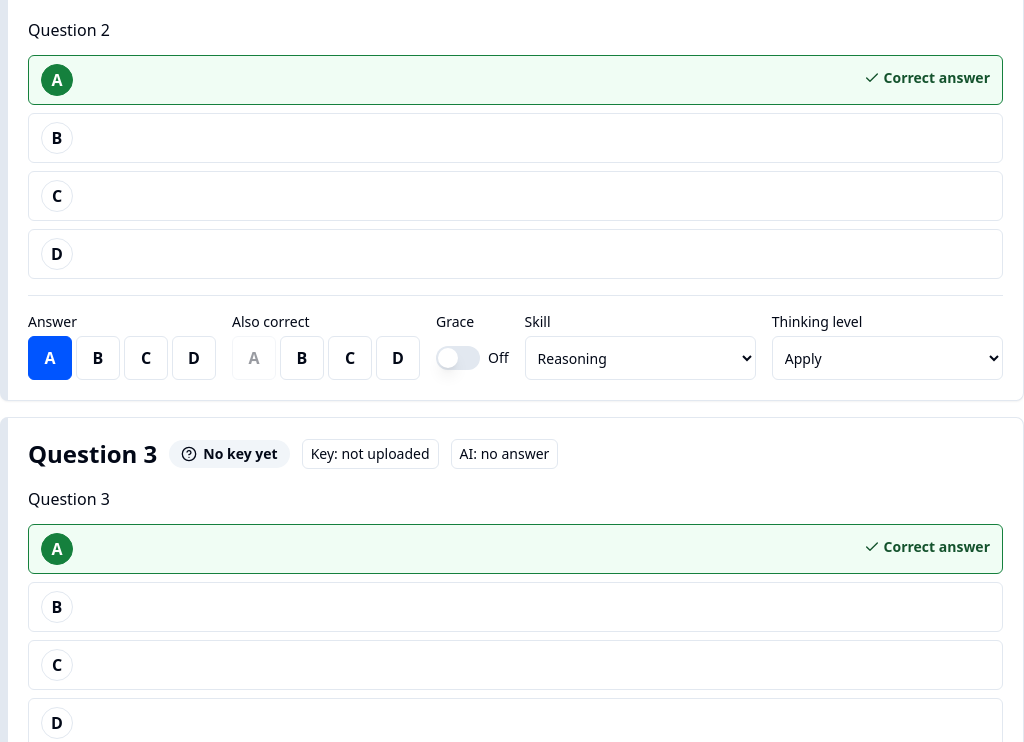
it: PaperEditor › disables the answer buttons when Grace is switched on
The width and height of the screenshot is (1024, 742).
(page scrolled)
Click the switch named "Grace for question 2".
click(458, 358)  # box [436,346,480,370]
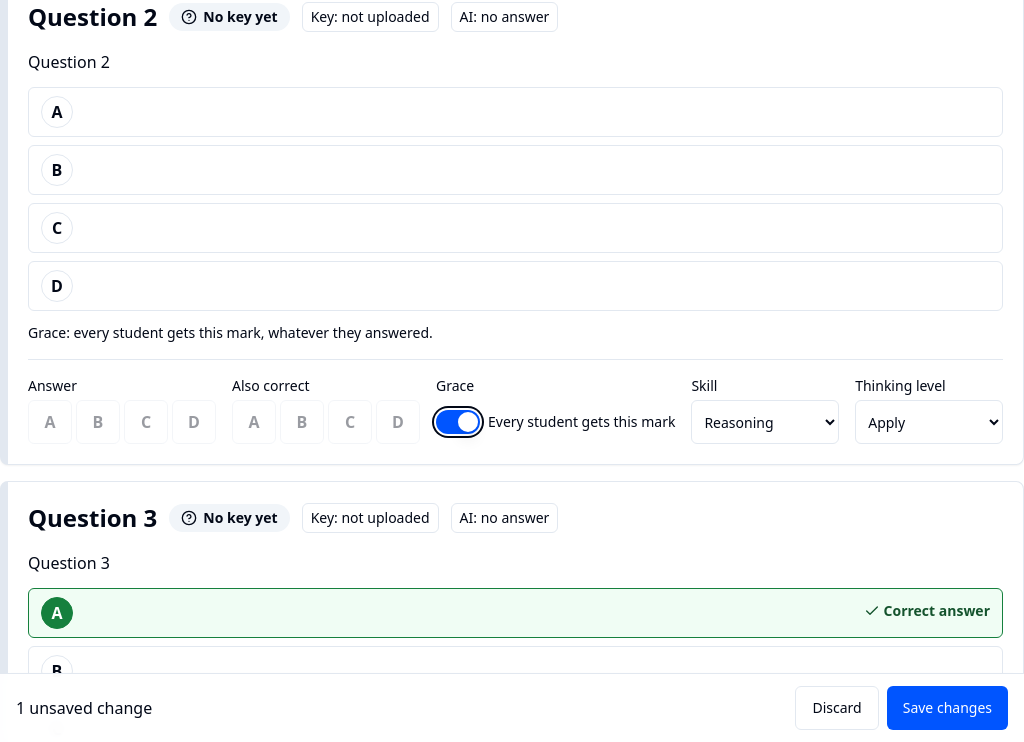
Expected: the text "Every student gets this mark" is shown, [488,412,675,432]
